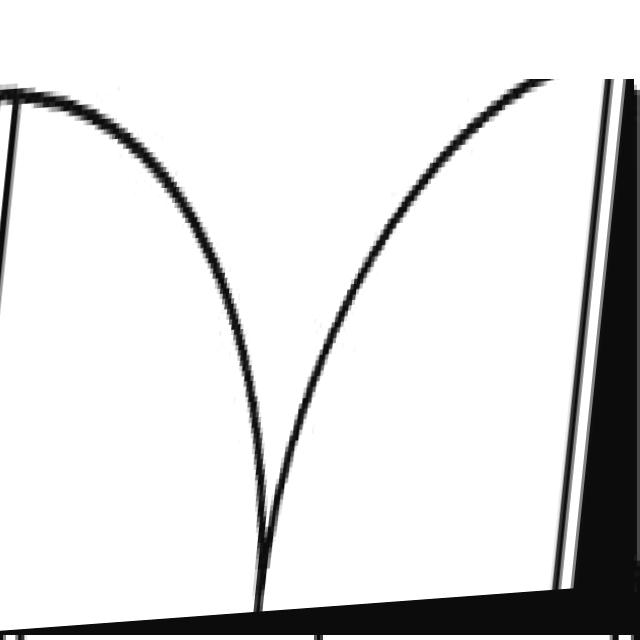door: (0, 79, 634, 635)
